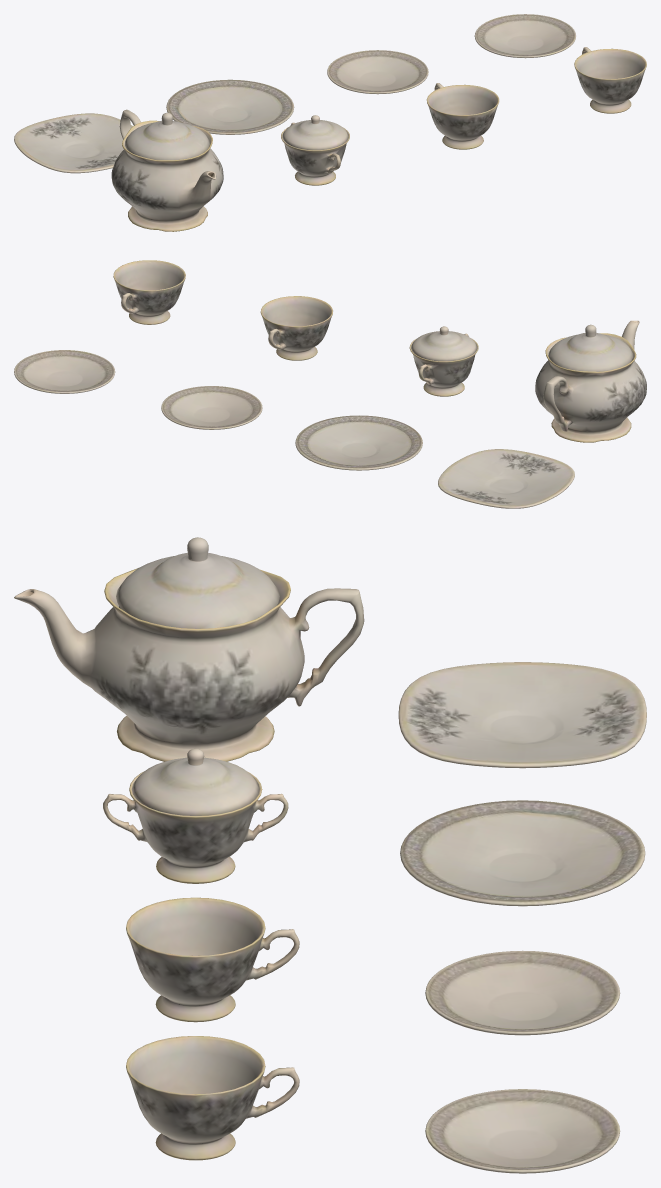
The model's file is tea-set-low.glb.
3 renders of one model, top to bottom at view 1: azimuth 30°, elevation 25°; view 2: azimuth 150°, elevation 25°; view 3: azimuth 270°, elevation 25°, orthographic. The views are drawn at different scales.
Parts seen in each view (by area): view 1: tea_set_01_teapot_01, tea_set_01_plate_large_circular_03, tea_set_01_plate_large_square_01, tea_set_01_cup_small_01, tea_set_01_cup_small_02, tea_set_01_saucer_circular_03, tea_set_01_saucer_circular_04, tea_set_01_teapot_01_lid, tea_set_01_sugar_cup_01, tea_set_01_sugar_cup_01_lid; view 2: tea_set_01_teapot_01, tea_set_01_plate_large_square_01, tea_set_01_plate_large_circular_03, tea_set_01_cup_small_02, tea_set_01_cup_small_01, tea_set_01_saucer_circular_04, tea_set_01_saucer_circular_03, tea_set_01_teapot_01_lid, tea_set_01_sugar_cup_01, tea_set_01_sugar_cup_01_lid; view 3: tea_set_01_teapot_01, tea_set_01_plate_large_square_01, tea_set_01_plate_large_circular_03, tea_set_01_cup_small_01, tea_set_01_cup_small_02, tea_set_01_saucer_circular_03, tea_set_01_saucer_circular_04, tea_set_01_teapot_01_lid, tea_set_01_sugar_cup_01, tea_set_01_sugar_cup_01_lid.
Part boxes in pixels (x1,y1,x2,y2): tea_set_01_teapot_01: (111,109,223,231); tea_set_01_plate_large_circular_03: (166,79,294,134); tea_set_01_plate_large_square_01: (14,113,133,173); tea_set_01_cup_small_01: (426,83,499,149); tea_set_01_cup_small_02: (574,47,646,113); tea_set_01_saucer_circular_03: (474,14,575,58); tea_set_01_saucer_circular_04: (327,50,428,94); tea_set_01_teapot_01_lid: (125,112,209,160); tea_set_01_sugar_cup_01: (281,122,349,185); tea_set_01_sugar_cup_01_lid: (282,115,348,150); tea_set_01_teapot_01: (535,320,646,442); tea_set_01_plate_large_square_01: (438,449,574,508); tea_set_01_plate_large_circular_03: (295,415,422,470); tea_set_01_cup_small_02: (113,260,185,324); tea_set_01_cup_small_01: (260,296,332,360); tea_set_01_saucer_circular_04: (161,386,262,429); tea_set_01_saucer_circular_03: (14,350,115,393); tea_set_01_teapot_01_lid: (548,324,633,371); tea_set_01_sugar_cup_01: (409,333,478,396); tea_set_01_sugar_cup_01_lid: (411,326,477,361); tea_set_01_teapot_01: (14,568,364,761); tea_set_01_plate_large_square_01: (398,662,646,768); tea_set_01_plate_large_circular_03: (400,800,645,906); tea_set_01_cup_small_01: (126,897,299,1022); tea_set_01_cup_small_02: (126,1036,299,1160); tea_set_01_saucer_circular_03: (425,1089,620,1173); tea_set_01_saucer_circular_04: (425,950,620,1035); tea_set_01_teapot_01_lid: (116,537,279,628); tea_set_01_sugar_cup_01: (103,771,288,883); tea_set_01_sugar_cup_01_lid: (131,748,259,815).
Bounding box in the file's own units: 0.9185 × 0.165 × 0.4839.
Materials: 1 (1 with a texture image).
